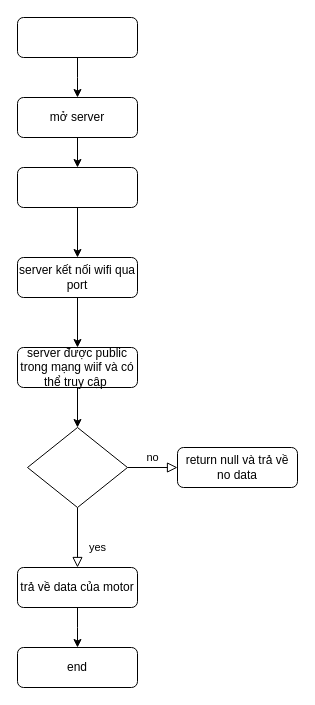
This 315x705 diagram has some shape labels left out. The centre of each missing label's shape, as x and y in pixels:
DATA: the point at 77,467
mở wifi: the point at 77,187
Start: the point at 77,37
